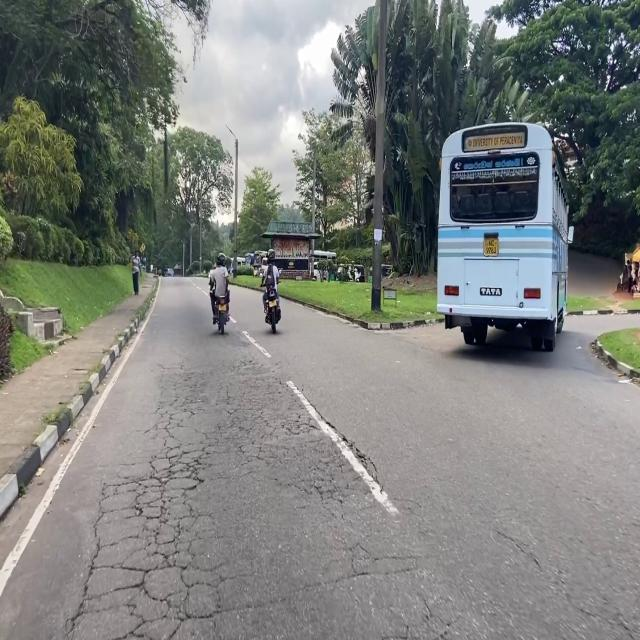bus: (437, 123, 568, 351), (313, 250, 336, 267)
motorcycle: (265, 287, 280, 334), (216, 297, 229, 334), (354, 267, 359, 281)
person: (210, 252, 229, 324), (263, 248, 279, 308), (131, 251, 141, 295), (627, 276, 632, 293), (627, 260, 631, 273)
three wheeler: (354, 264, 365, 282), (337, 264, 348, 280)
